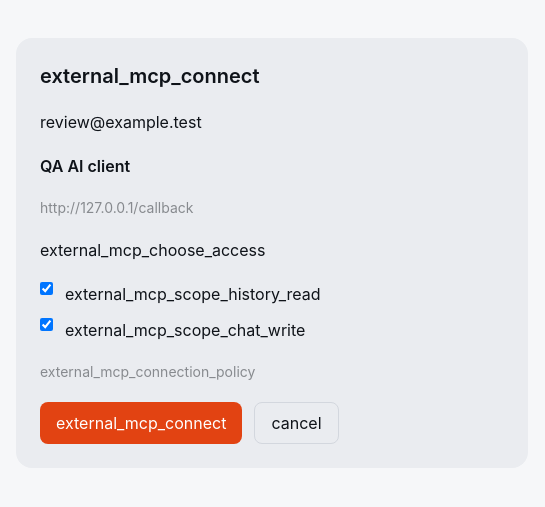
Test: shows the account/client and sends only independently selected scopes after explicit consent
Expected: the text "review@example.test" is shown, [40,112,202,132]
Expected: the heading "QA AI client" is shown, [40,156,130,176]
What coordinates should you click on to do the following:
click the checkbox labelled "external_mcp_scope_chat_write"
I would click on:
 (46, 324)
Its box is [40,318,53,331].
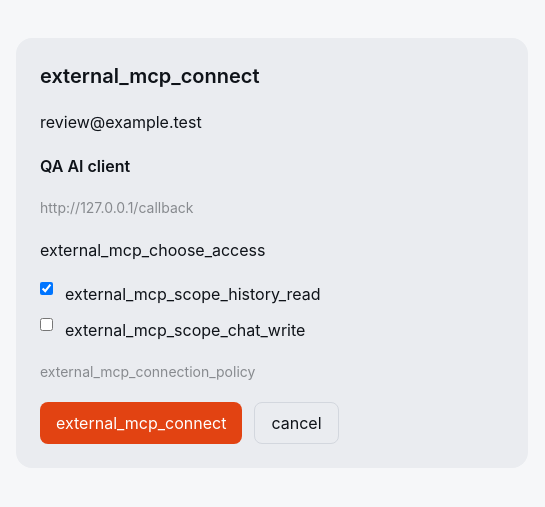
What coordinates should you click on to do the following:
click the button "external_mcp_connect"
I would click on:
 (141, 423)
Its box is [40,402,242,444].
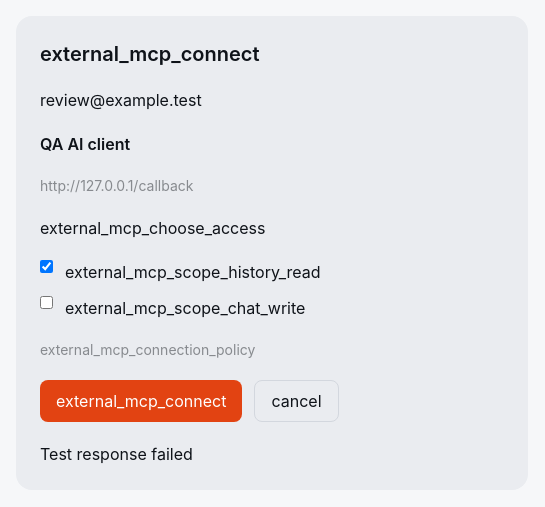
Result: the message reads "Test response failed" at [40,444,193,464]
